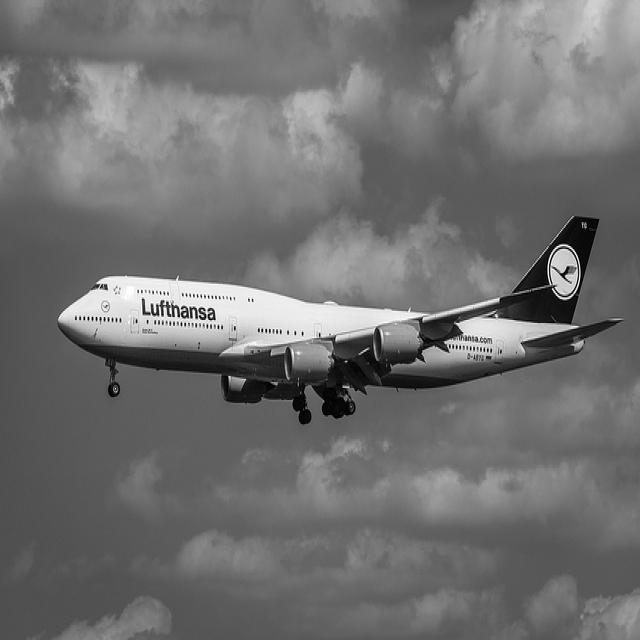airplane: (56, 212, 626, 428)
